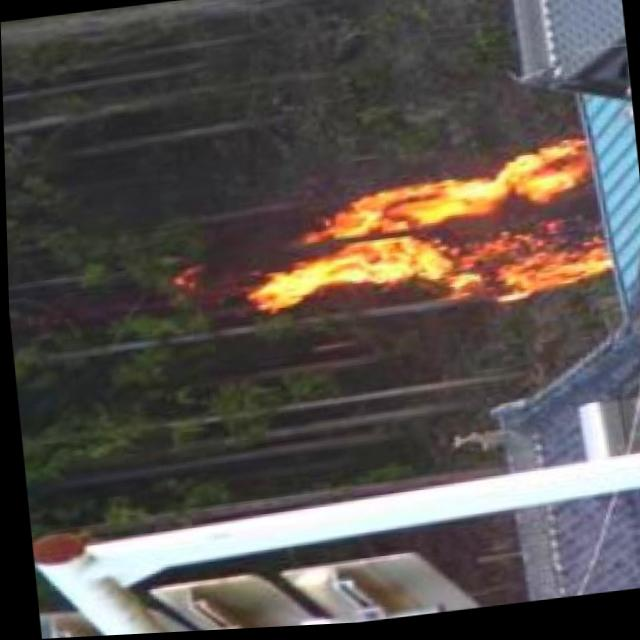Fire: (251, 143, 601, 336)
